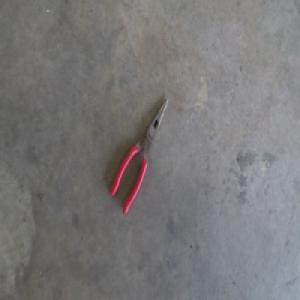Pliers: (109, 97, 169, 213)
